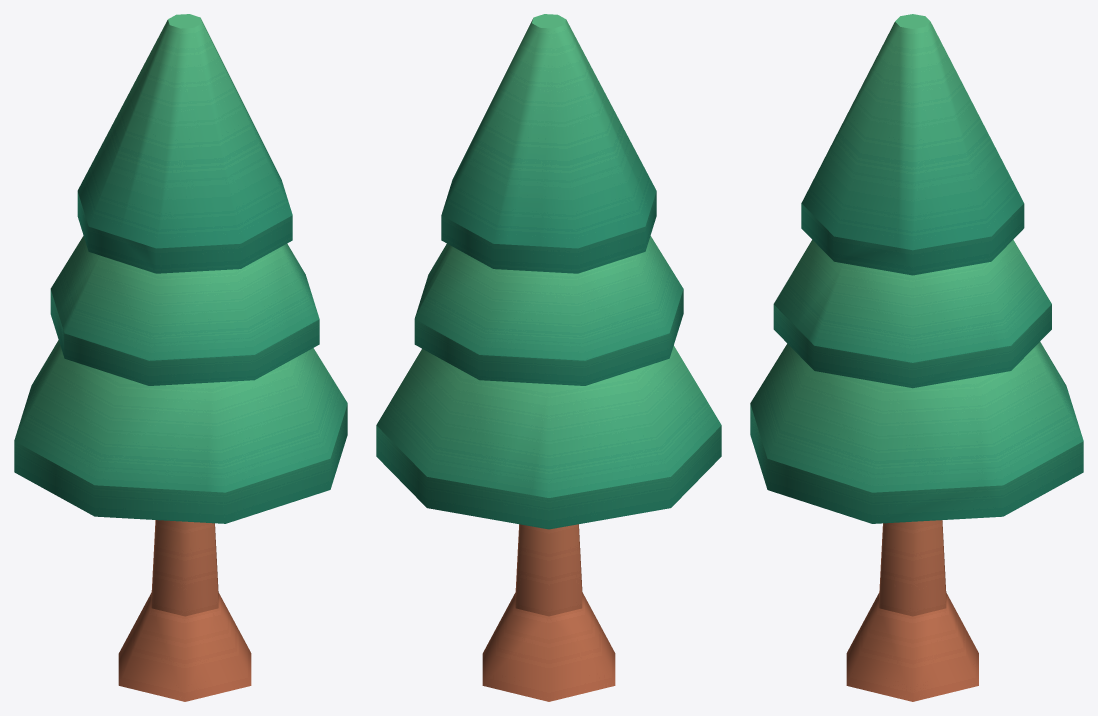
File: tree-large-simplified.glb
3 renders of one model, left to right at view 1: azimuth 30°, elevation 25°; view 2: azimuth 150°, elevation 25°; view 3: azimuth 270°, elevation 25°, orthographic.
Visible parts, largest first — view 1: tree-large; view 2: tree-large; view 3: tree-large.
Part boxes in pixels (<box>): tree-large: <box>14,14,347,701</box>; tree-large: <box>376,14,721,701</box>; tree-large: <box>750,14,1083,701</box>.
Size of the model in its own units: 0.8624 by 1.85 by 0.8624.
Materials: 1 (1 with a texture image).
